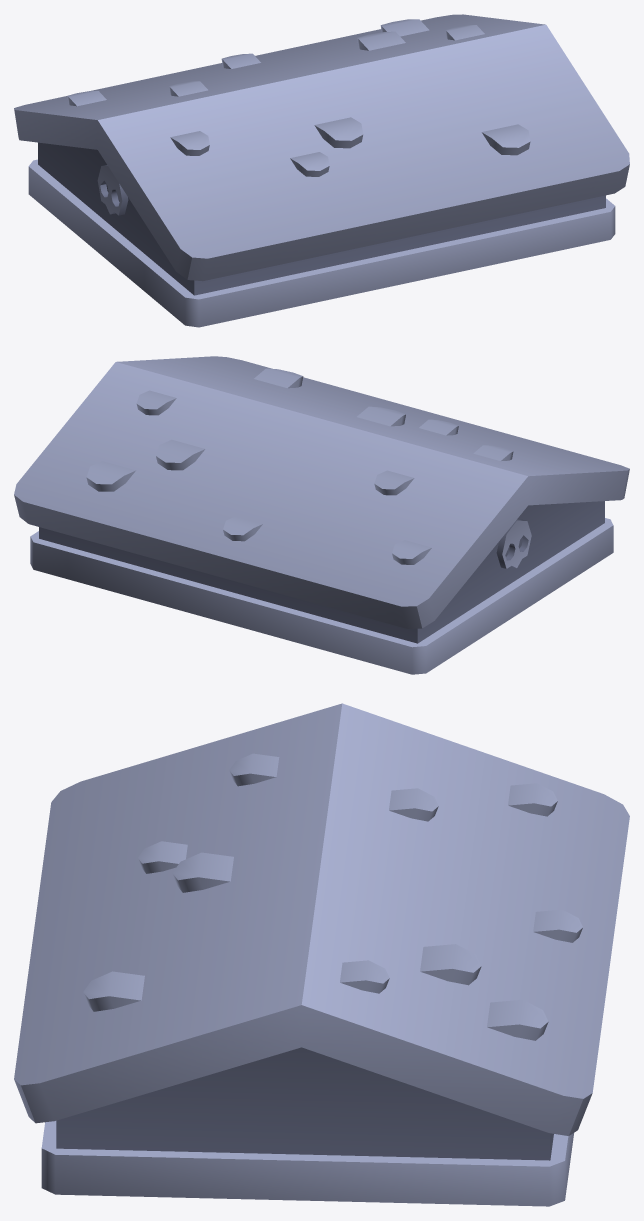
Rendered from crypt-large-roof.001_lev2.glb.
3 renders of one model, top to bottom at view 1: azimuth 30°, elevation 25°; view 2: azimuth 150°, elevation 25°; view 3: azimuth 270°, elevation 25°, orthographic. The views are drawn at different scales.
Visible parts, largest first — view 1: crypt-large-roof.001_lev2; view 2: crypt-large-roof.001_lev2; view 3: crypt-large-roof.001_lev2.
Boxes of the visible parts, left/top/right/bottom form: crypt-large-roof.001_lev2: left=14, top=14, right=629, bottom=327; crypt-large-roof.001_lev2: left=14, top=356, right=629, bottom=674; crypt-large-roof.001_lev2: left=14, top=703, right=629, bottom=1206.
Bounding box in the file's own units: 20.29 × 6.07 × 16.81.
1 material, 1 textured.
